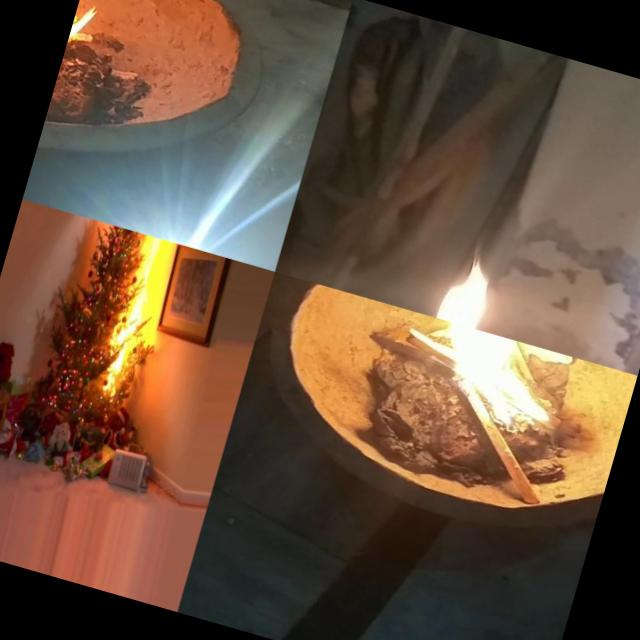fire: (374, 224, 562, 348), (414, 318, 587, 442), (91, 232, 167, 408), (47, 0, 131, 120)
